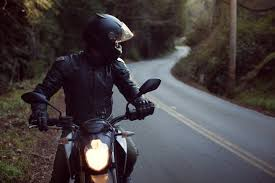motorcycle: (19, 76, 162, 183)
